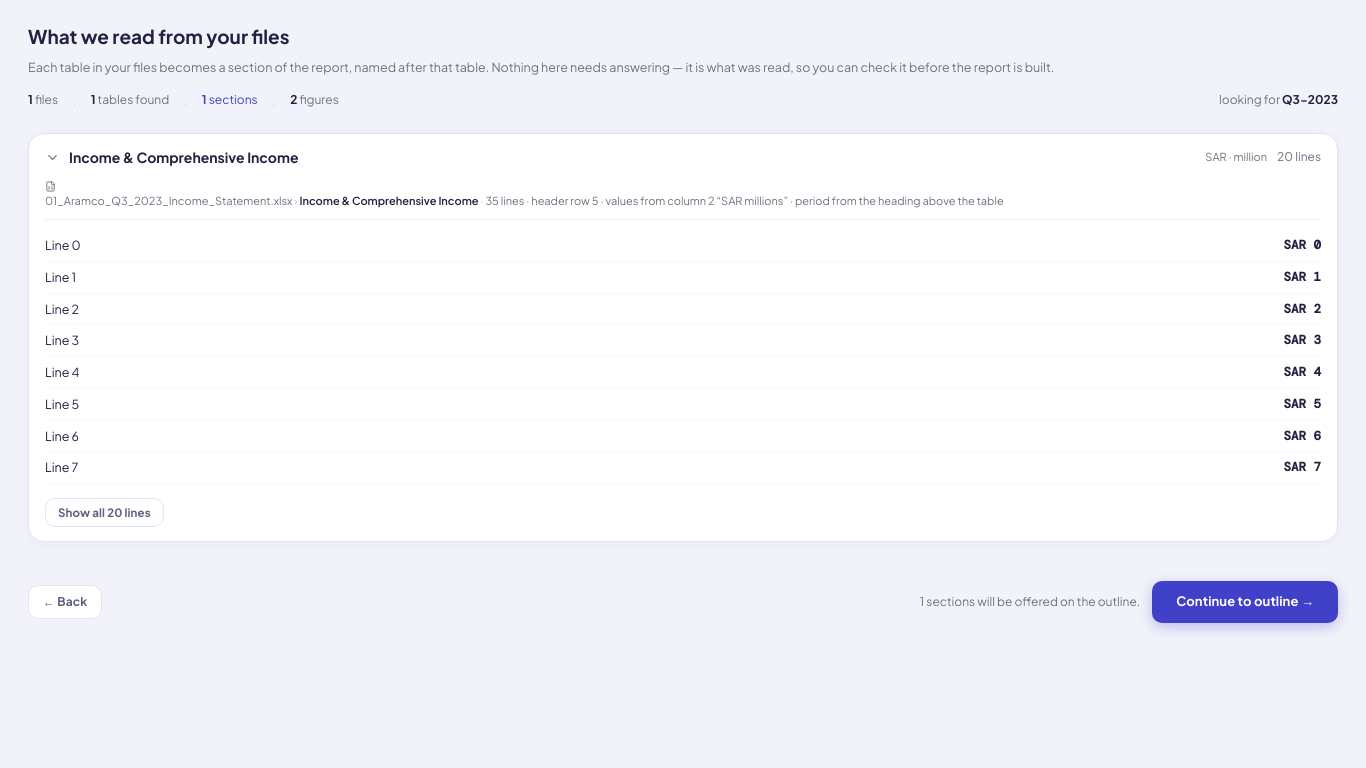
Test: user-metrics extraction screen › caps a long section and expands on request
Check: the text "Line 19" is not shown
Step 1. Click the button "Show all 20 lines" → x=104, y=513, box [45,498,164,527]
(page scrolled)
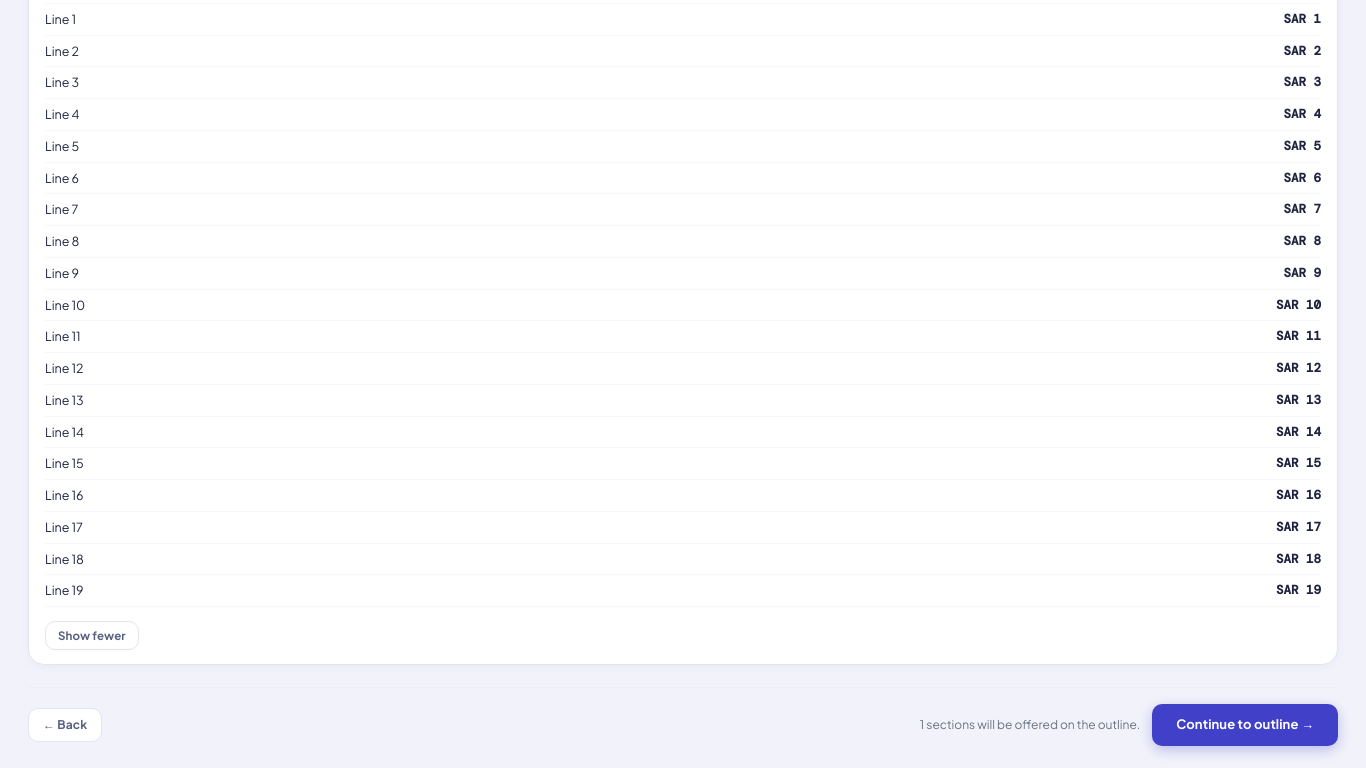
Check: the text "Line 19" is shown, box [45,582,84,598]
